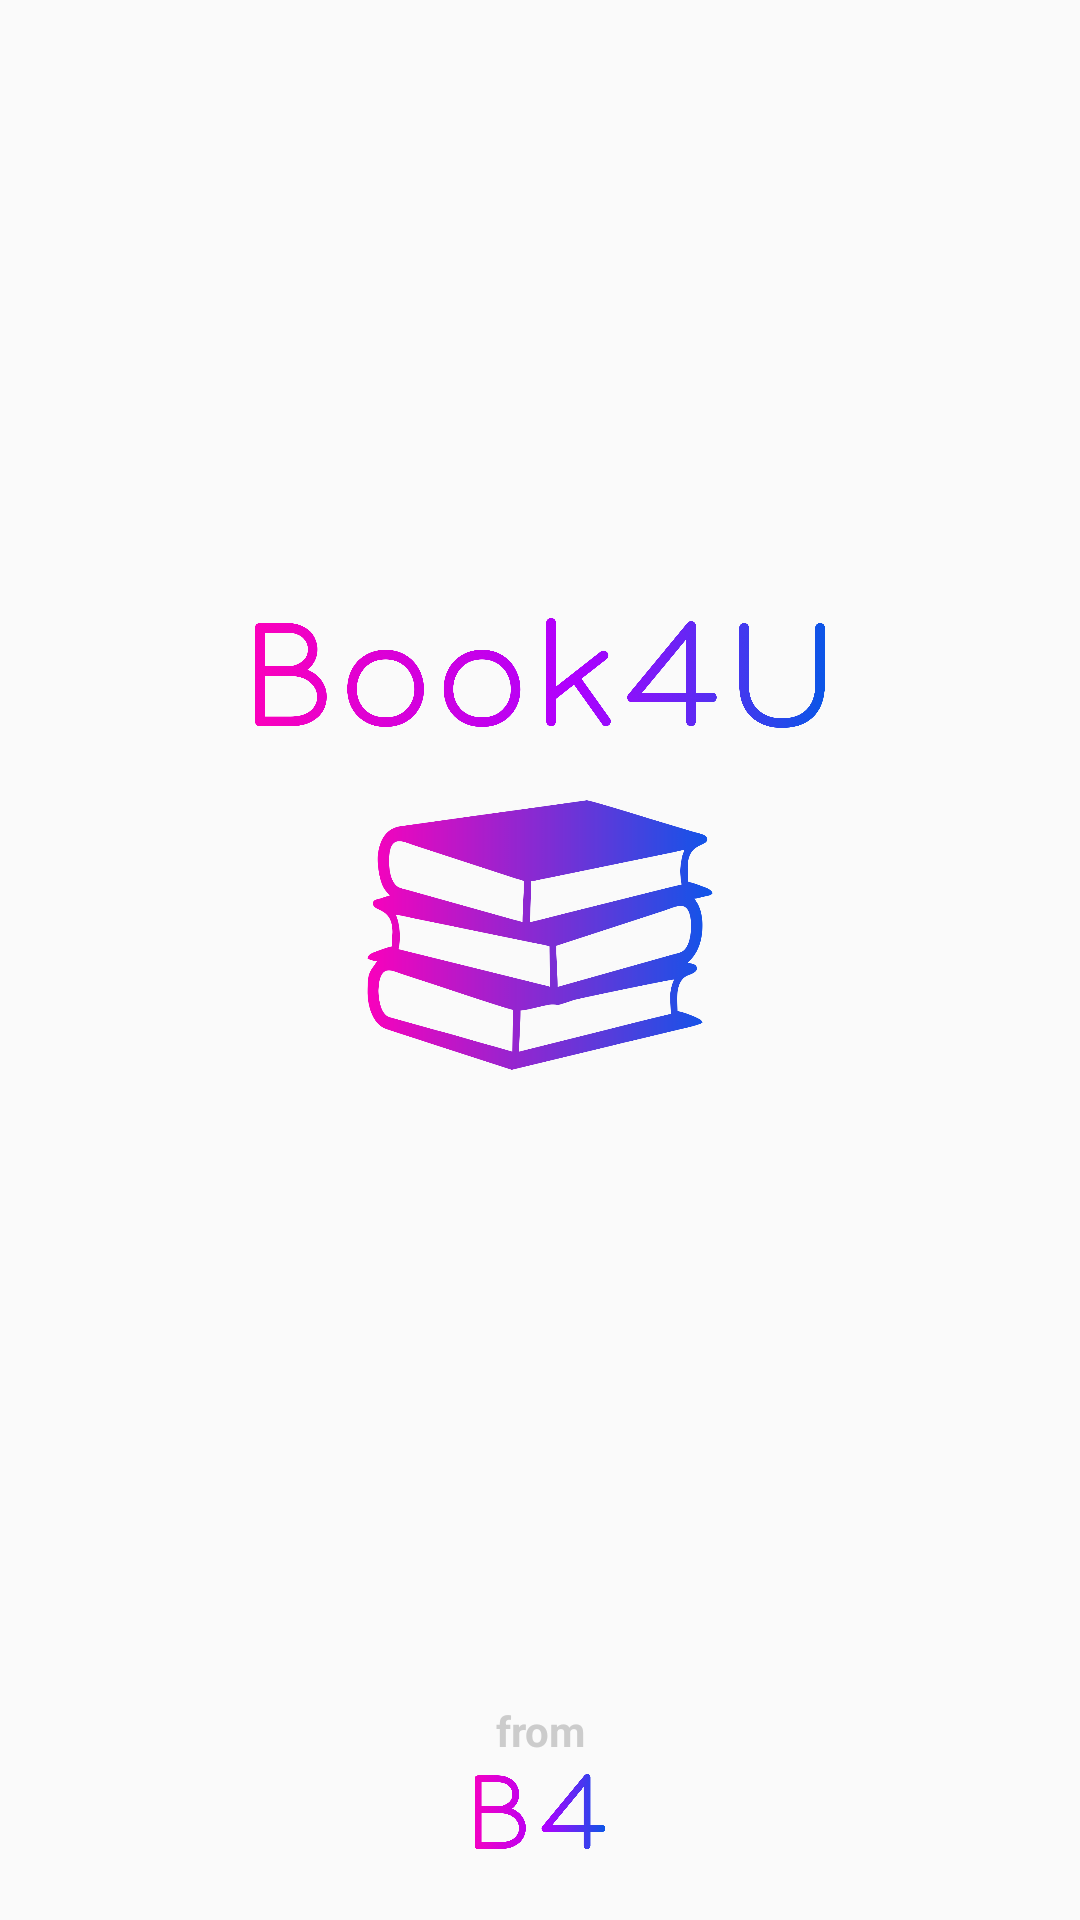

Icon click points for this 1080*1920 phone screenshot, format (x,y):
LIVRO: (540,935)
